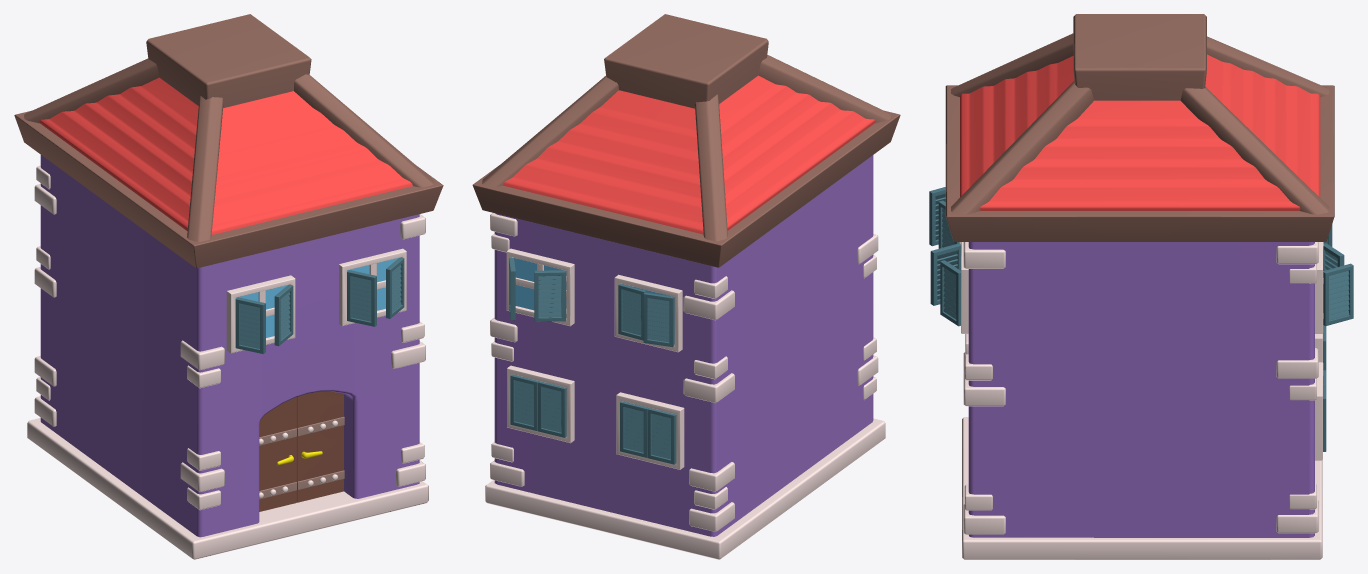
The model's file is City_4_House_2.glb.
3 views of the same model, side by side, from view 1: azimuth 30°, elevation 25°; view 2: azimuth 150°, elevation 25°; view 3: azimuth 270°, elevation 25° (orthographic). The views are drawn at different scales.
Visible parts, largest first — view 1: City_4_House_2; view 2: City_4_House_2; view 3: City_4_House_2.
Part boxes in pixels (bbox=[...]): City_4_House_2: bbox=[14, 14, 443, 559]; City_4_House_2: bbox=[472, 14, 900, 559]; City_4_House_2: bbox=[929, 14, 1353, 559].
Size of the model in its own units: 5.76 by 9.32 by 7.84.
Materials: 1 (1 with a texture image).
